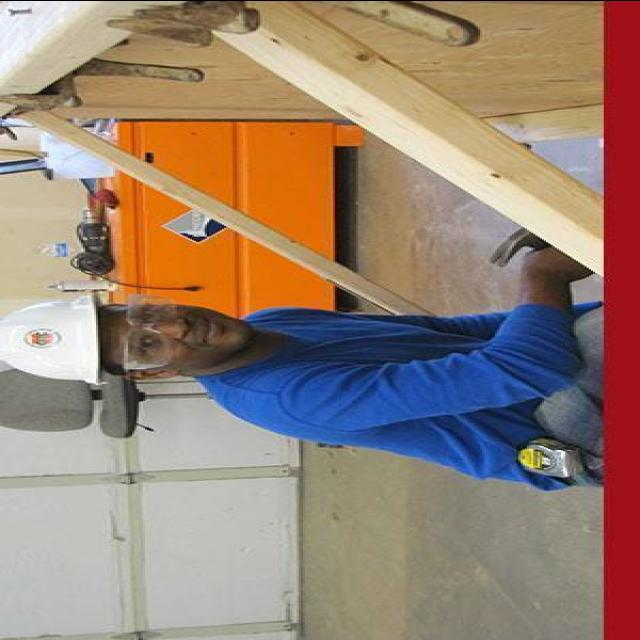helmet: (0, 290, 123, 390)
